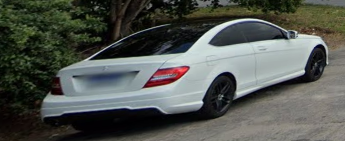car: (40, 16, 331, 129)
